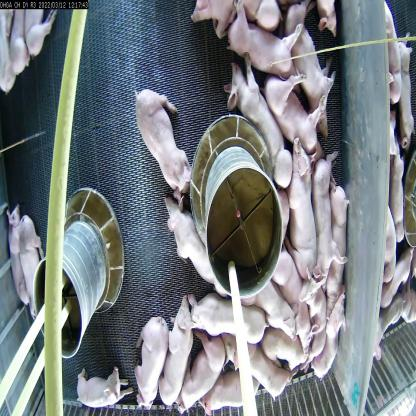Pig: (122, 74, 192, 189), (226, 78, 288, 181), (282, 17, 333, 114), (242, 267, 299, 352), (155, 280, 194, 402), (269, 84, 326, 164), (226, 12, 293, 80), (286, 152, 328, 260), (187, 296, 262, 353), (67, 352, 133, 415), (158, 194, 209, 262), (231, 348, 286, 408), (331, 196, 358, 313), (179, 336, 225, 400), (314, 159, 336, 288), (17, 221, 44, 312), (136, 310, 162, 404), (2, 198, 27, 290), (206, 377, 265, 415)
